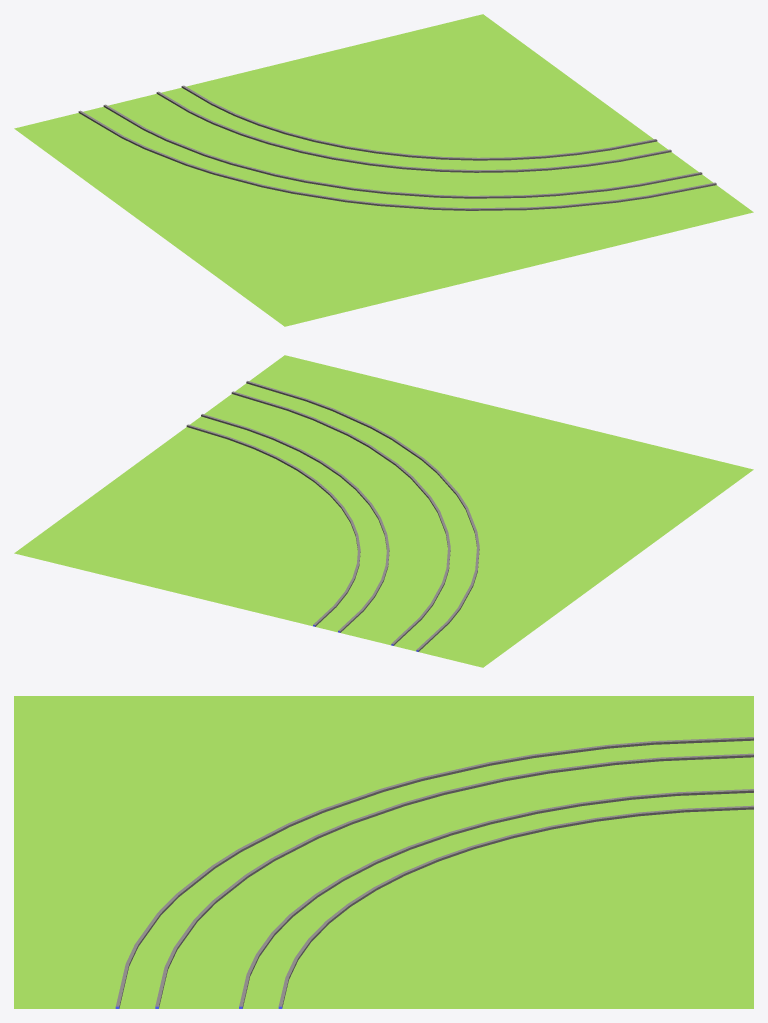
File: tram_railway_004.glb
The picture shows the model from 3 angles, top to bottom: view 1: azimuth 30°, elevation 25°; view 2: azimuth 150°, elevation 25°; view 3: azimuth 270°, elevation 25°; orthographic projection. The views are drawn at different scales.
Parts seen in each view (by area): view 1: tram_railway_004; view 2: tram_railway_004; view 3: tram_railway_004.
Boxes of the visible parts, x1,y1,x2,y2 form: tram_railway_004: (14, 14, 753, 326); tram_railway_004: (14, 355, 753, 667); tram_railway_004: (14, 696, 753, 1008).
Bounding box in the file's own units: 30 × 0.1 × 30.
1 material, 1 textured.
